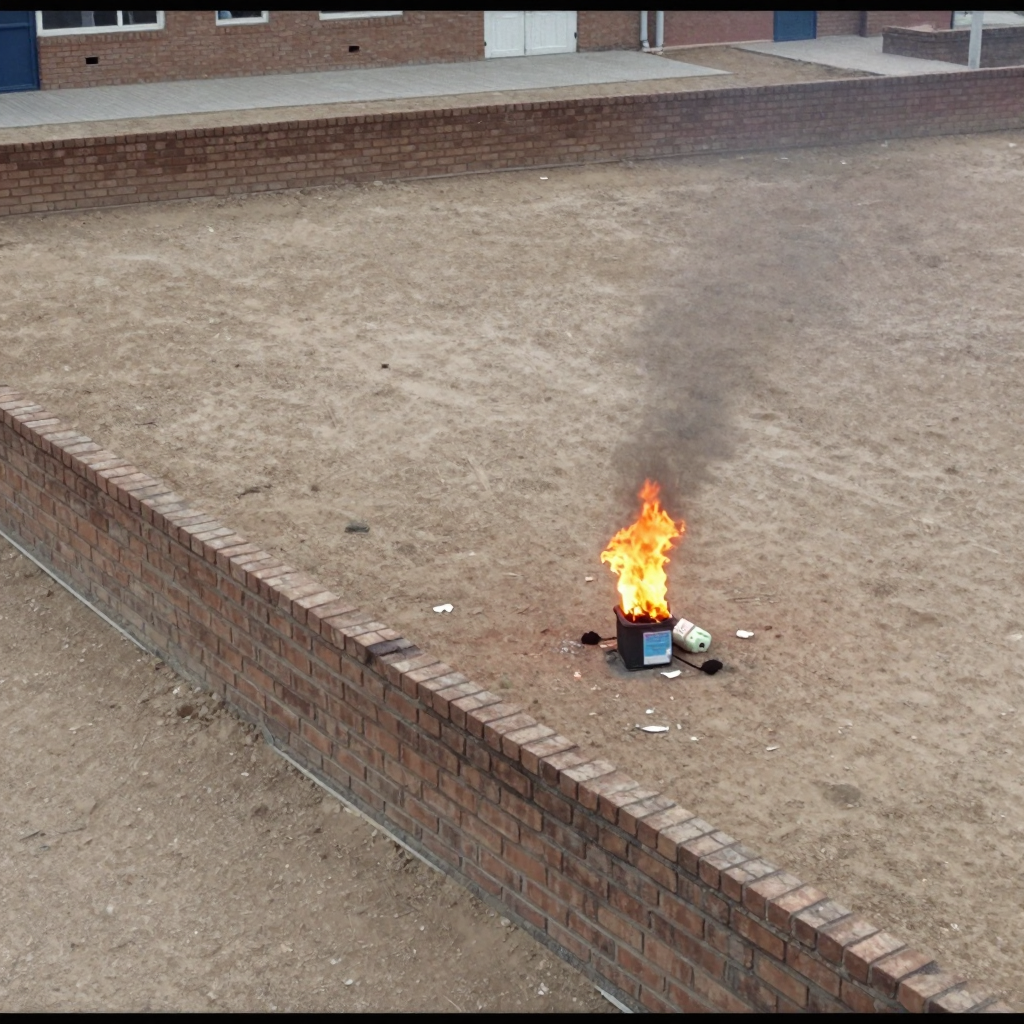Arson: (602, 488, 689, 620)
Explosion: (613, 288, 744, 520)
